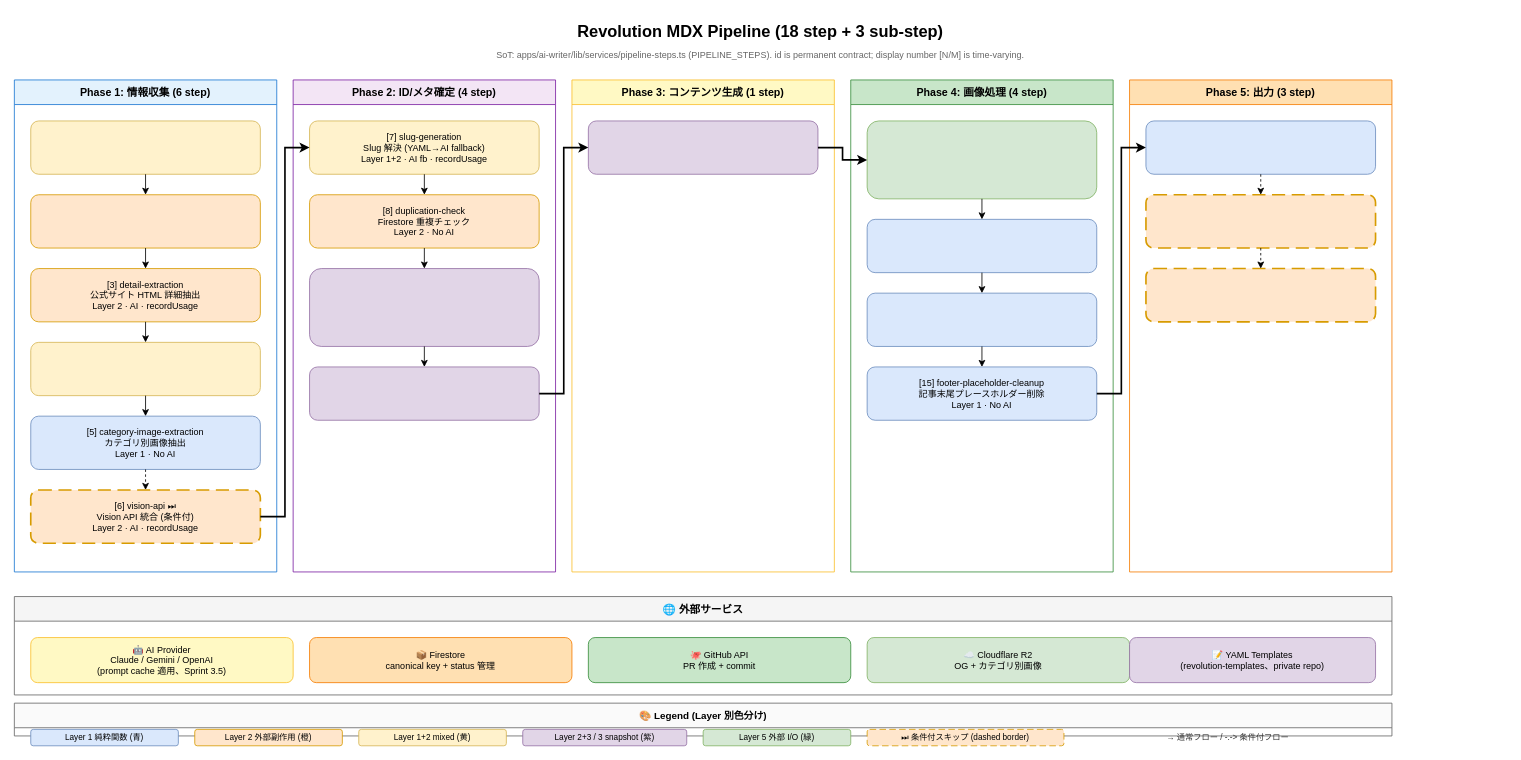
Some shapes in this 1521 by 760 pixel diagram are drawn without their labels. Here are the shapes that lost their labels. From the top down, the centre of each, then its label:
At (x=145, y=147): "[1] article-selection 記事選別 (公式 URL 判定) Layer 1+2 · AI · recordUsage".
At (x=703, y=147): "[11] content-generation MDX 本文生成 (golden file test) Layer 3 · AI · recordUsage".
At (x=981, y=159): "[12] image-upload-r2 画像 R2 アップロード Layer 5 · No AI sub: OG / カテゴリ別".
At (x=1260, y=147): "[16] mdx-assembly MDX 組み立て Layer 1 · No AI".
At (x=145, y=221): "[2] rss-extraction RSS 情報抽出 Layer 2 · AI · recordUsage".
At (x=1260, y=221): "[17] github-pr-creation ⏭ GitHub PR 作成 (条件付) Layer 2 · No AI".
At (x=981, y=246): "[13] image-placeholder-replacement 画像プレースホルダー置換 Layer 1 · No AI".
At (x=424, y=307): "[9] metadata-generation メタデータ生成 Layer 2+3 · AI · recordUsage sub: 開催都道府県解決".
At (x=1260, y=294): "[18] firestore-status-update ⏭ Firestore ステータス更新 (条件付) Layer 2 · No AI".
At (x=981, y=319): "[14] text-placeholder-replacement テキストプレースホルダー置換 Layer 1 · No AI".
At (x=145, y=369): "[4] subpage-detection 下層ページ検出 Layer 1+2 · AI · recordUsage".
At (x=424, y=393): "[10] title-generation タイトル生成 (YAML + AI) Layer 2+3 · AI · recordUsage".
